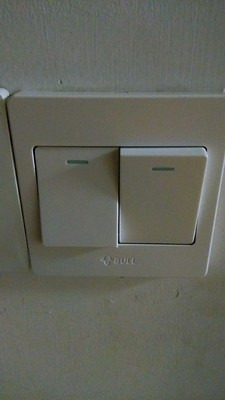switch: (29, 137, 129, 257), (112, 138, 208, 253)
